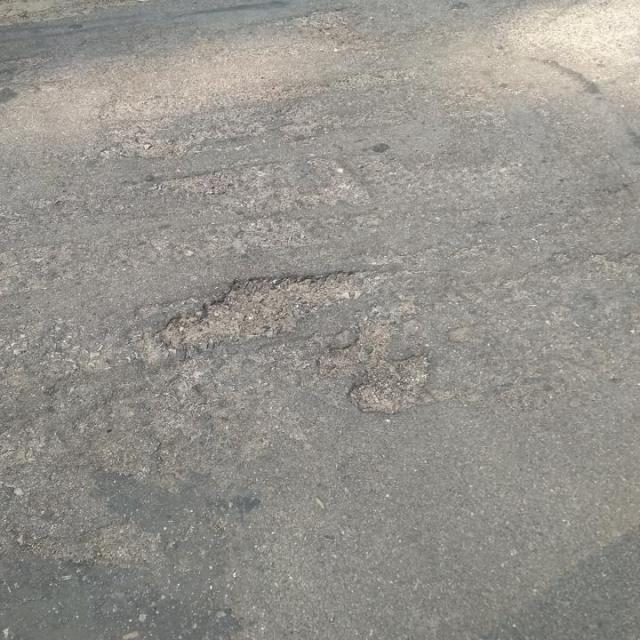Pothole: (154, 268, 382, 353), (346, 352, 435, 416)
